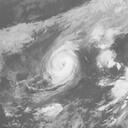cyclone: (42, 45, 82, 87)
